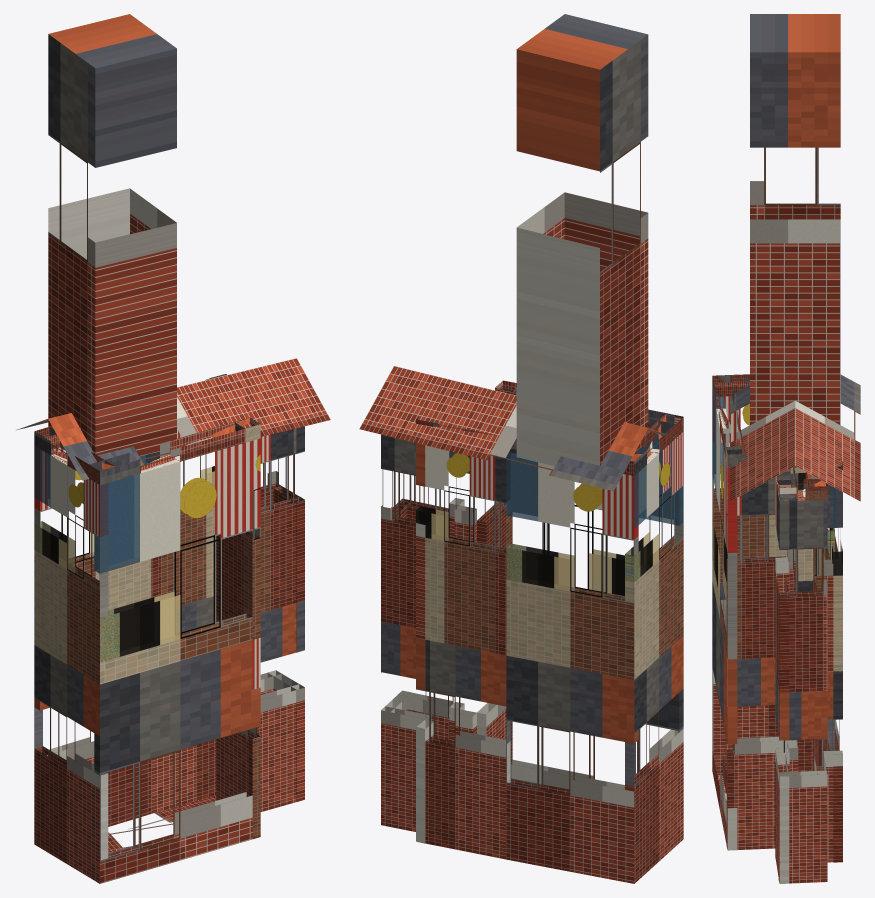
The picture shows the model from 3 angles, left to right: view 1: azimuth 30°, elevation 25°; view 2: azimuth 150°, elevation 25°; view 3: azimuth 270°, elevation 25°; orthographic projection. The views are drawn at different scales.
Visible parts, largest first — view 1: 1132023209__chimney_0_xb, 1132023209__wall_1_xb, 1132023209__wall_0_xb, 1132023209__wall_5_xb, 1132023209_roof_-1_xb, 1132023209__wall_9_xb, 1132023209__wall_2_xb, 1132023209__wall_1_xf, 1132023209__wall_10_xb, 1132023209__wall_6_xb, 1132023209__cornice_1, 1132023209__wall_0_xf (+3 smaller); view 2: 1132023209__chimney_0_xb, 1132023209__wall_10_xb, 1132023209__wall_9_xb, 1132023209__wall_0_xb, 1132023209_roof_1_xb, 1132023209__wall_7_xb, 1132023209__wall_1_xb, 1132023209__wall_10_xf, 1132023209__wall_8_xb, 1132023209__wall_2_xb, 1132023209__wall_1_xf, 1132023209__wall_5_xb (+6 smaller); view 3: 1132023209__chimney_0_xb, 1132023209__wall_6_xb, 1132023209__wall_2_xb, 1132023209__wall_1_xb, 1132023209__wall_0_xb, 1132023209_roof_1_xb, 1132023209__wall_5_xb, 1132023209_roof_-1_xb, 1132023209__wall_9_xb, 1132023209__wall_8_xb, 1132023209__wall_10_xb, 1132023209__wall_1_xf (+8 smaller).
Boxes of the visible parts, <box> form: 1132023209__chimney_0_xb: <box>48,14,176,456</box>; 1132023209__wall_1_xb: <box>94,438,260,883</box>; 1132023209__wall_0_xb: <box>34,446,108,883</box>; 1132023209__wall_5_xb: <box>251,428,299,811</box>; 1132023209_roof_-1_xb: <box>48,358,330,480</box>; 1132023209__wall_9_xb: <box>146,429,216,813</box>; 1132023209__wall_2_xb: <box>216,440,260,839</box>; 1132023209__wall_1_xf: <box>94,474,179,661</box>; 1132023209__wall_10_xb: <box>34,446,151,826</box>; 1132023209__wall_6_xb: <box>267,426,304,801</box>; 1132023209__cornice_1: <box>89,417,255,484</box>; 1132023209__wall_0_xf: <box>34,446,75,568</box>; 1132023209__chimney_0_xb: <box>516,14,648,466</box>; 1132023209__wall_10_xb: <box>506,452,638,883</box>; 1132023209__wall_9_xb: <box>416,445,510,859</box>; 1132023209__wall_0_xb: <box>625,432,683,883</box>; 1132023209_roof_1_xb: <box>359,366,648,490</box>; 1132023209__wall_7_xb: <box>381,434,429,831</box>; 1132023209__wall_1_xb: <box>503,435,683,789</box>; 1132023209__wall_10_xf: <box>506,452,574,590</box>; 1132023209__wall_8_xb: <box>416,443,433,843</box>; 1132023209__wall_2_xb: <box>477,499,512,764</box>; 1132023209__wall_1_xf: <box>589,436,682,595</box>; 1132023209__wall_5_xb: <box>398,451,460,740</box>; 1132023209__chimney_0_xb: <box>750,14,840,424</box>; 1132023209__wall_6_xb: <box>778,497,827,883</box>; 1132023209__wall_2_xb: <box>726,477,786,849</box>; 1132023209__wall_1_xb: <box>712,390,737,850</box>; 1132023209__wall_0_xb: <box>712,392,813,775</box>; 1132023209_roof_1_xb: <box>795,374,860,501</box>; 1132023209__wall_5_xb: <box>775,476,789,883</box>; 1132023209_roof_-1_xb: <box>730,377,795,501</box>; 1132023209__wall_9_xb: <box>825,487,842,862</box>; 1132023209__wall_8_xb: <box>823,483,842,862</box>; 1132023209__wall_10_xb: <box>813,528,834,770</box>; 1132023209__wall_1_xf: <box>712,392,725,595</box>.
Size of the model in its own units: 0.4572 by 1.4 by 0.2458.
Materials: 1 (1 with a texture image).
